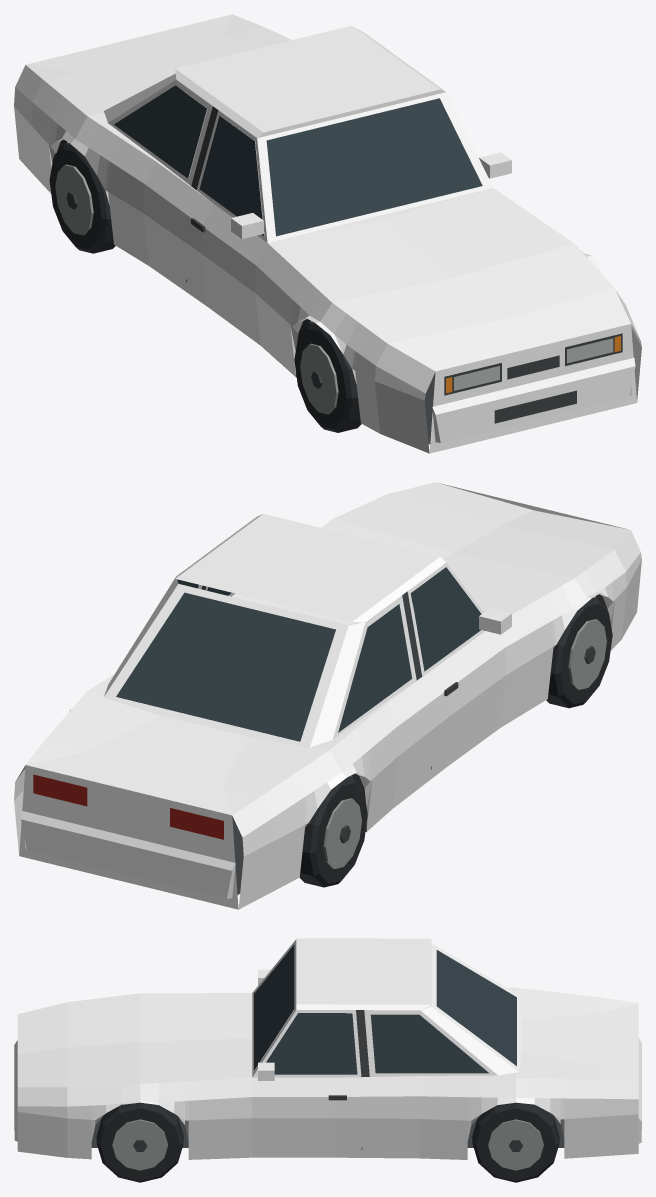
File: hartwig_wiesel.glb
3 renders of one model, top to bottom at view 1: azimuth 30°, elevation 25°; view 2: azimuth 150°, elevation 25°; view 3: azimuth 270°, elevation 25°, orthographic. The views are drawn at different scales.
Visible parts, largest first — view 1: hartwig_wiesel; view 2: hartwig_wiesel; view 3: hartwig_wiesel.
Boxes of the visible parts, x1,y1,x2,y2 form: hartwig_wiesel: [14, 14, 641, 453]; hartwig_wiesel: [14, 482, 641, 909]; hartwig_wiesel: [14, 938, 641, 1182].
Bounding box in the file's own units: 1.76 × 1.29 × 4.51.
Materials: 8 (1 with a texture image).
